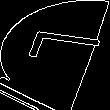L_E: (9, 34, 101, 76)
